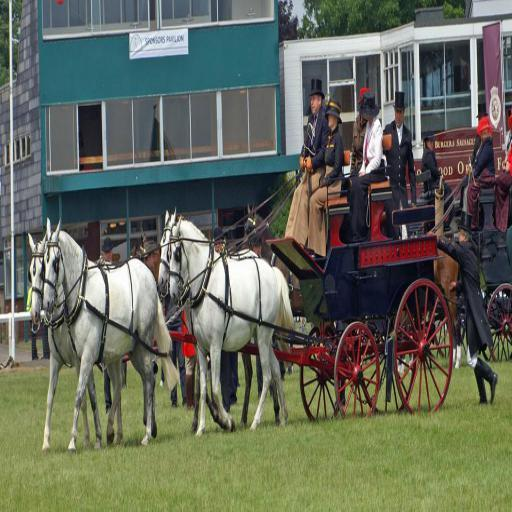horse: (42, 210, 180, 451), (168, 208, 294, 438), (158, 210, 280, 438), (28, 232, 122, 448)
